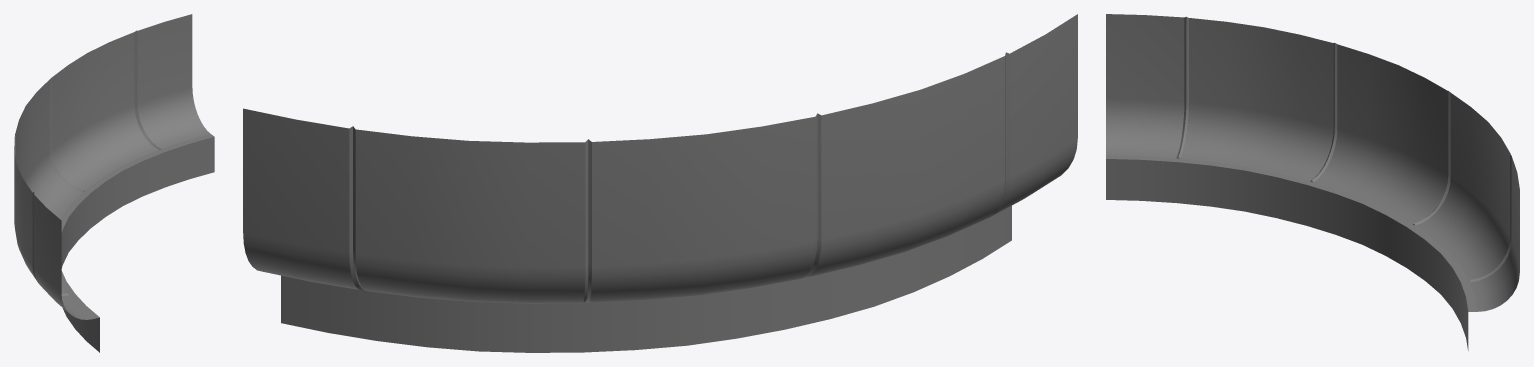
The model's file is q-scifi-mod-topplastic-corner-round-outer.glb.
3 views of the same model, side by side, from view 1: azimuth 30°, elevation 25°; view 2: azimuth 150°, elevation 25°; view 3: azimuth 270°, elevation 25° (orthographic). The views are drawn at different scales.
Visible parts, largest first — view 1: TopPlastic_Corner_Round_Outer; view 2: TopPlastic_Corner_Round_Outer; view 3: TopPlastic_Corner_Round_Outer.
Boxes of the visible parts, x1,y1,x2,y2 form: TopPlastic_Corner_Round_Outer: (14, 14, 214, 352); TopPlastic_Corner_Round_Outer: (243, 14, 1077, 352); TopPlastic_Corner_Round_Outer: (1106, 14, 1519, 350).
Bounding box in the file's own units: 4.57 × 2.02 × 4.57.
3 materials, 3 textured.
